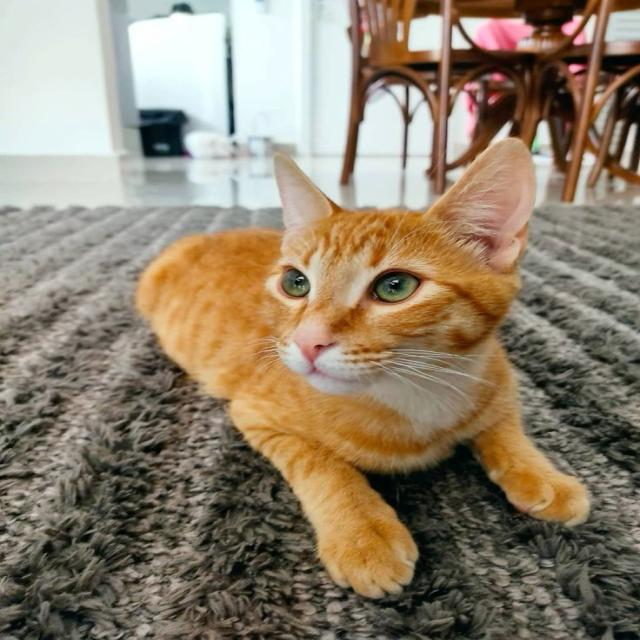sarman: (123, 67, 625, 640)
